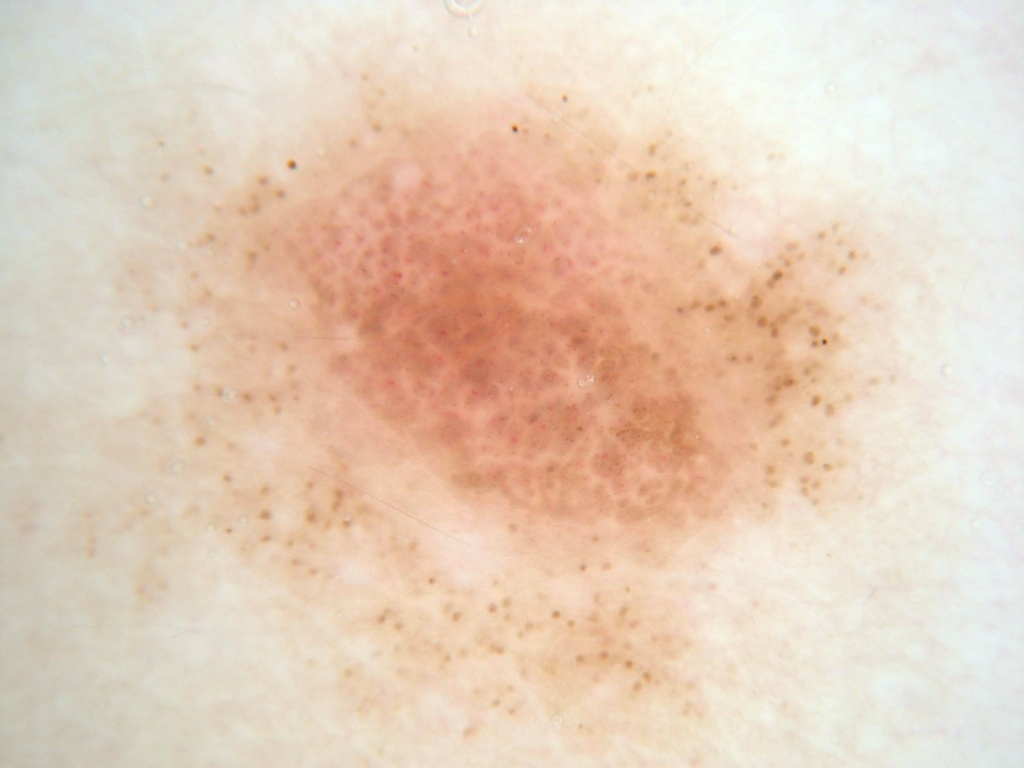Detected Lesion: (151, 82, 896, 768)
